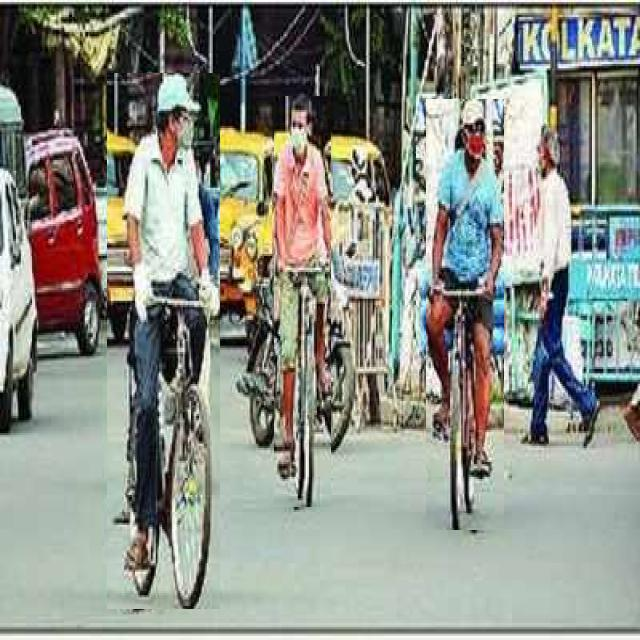bicycle: (107, 74, 220, 609), (426, 100, 504, 530), (274, 96, 331, 507)
car: (191, 128, 281, 348), (25, 133, 102, 354), (0, 168, 38, 431)
